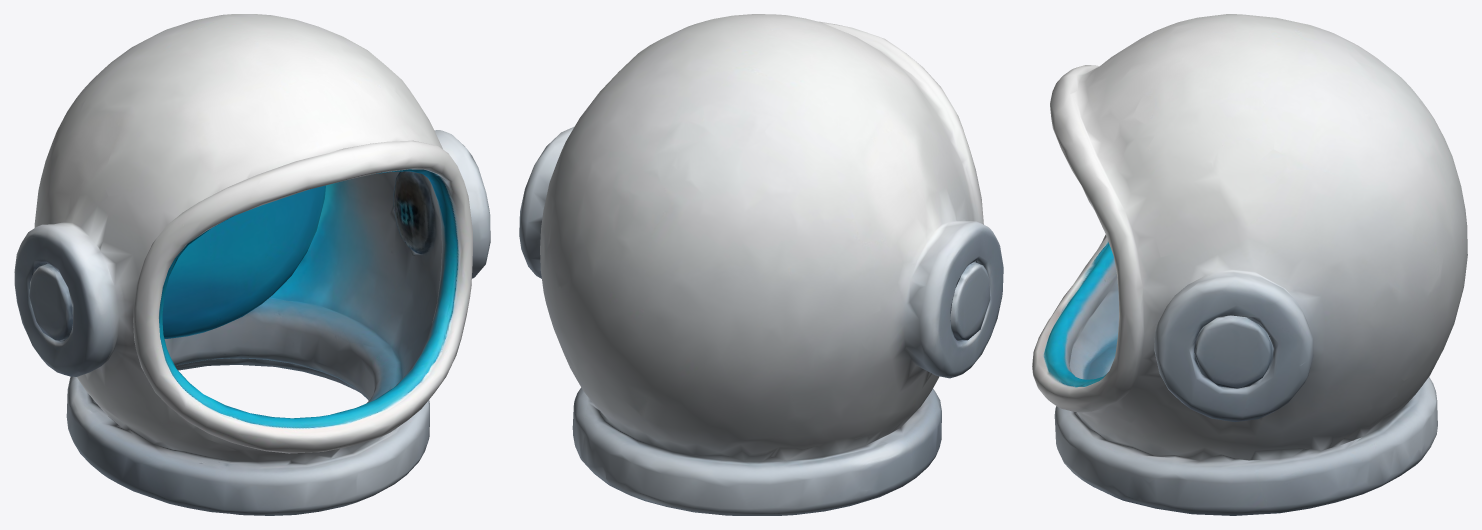
File: cs-space-helmet.glb
3 renders of one model, left to right at view 1: azimuth 30°, elevation 25°; view 2: azimuth 150°, elevation 25°; view 3: azimuth 270°, elevation 25°, orthographic.
Parts seen in each view (by area): view 1: tripo_node_f442b44d-7156-46f8-82cb-e35cb3bc3411; view 2: tripo_node_f442b44d-7156-46f8-82cb-e35cb3bc3411; view 3: tripo_node_f442b44d-7156-46f8-82cb-e35cb3bc3411.
Part boxes in pixels (x1,y1,x2,y2): tripo_node_f442b44d-7156-46f8-82cb-e35cb3bc3411: [14, 14, 490, 515]; tripo_node_f442b44d-7156-46f8-82cb-e35cb3bc3411: [519, 14, 1003, 515]; tripo_node_f442b44d-7156-46f8-82cb-e35cb3bc3411: [1032, 14, 1467, 515].
Bounding box in the file's own units: 1 × 0.9435 × 0.8947.
1 material, 1 textured.
